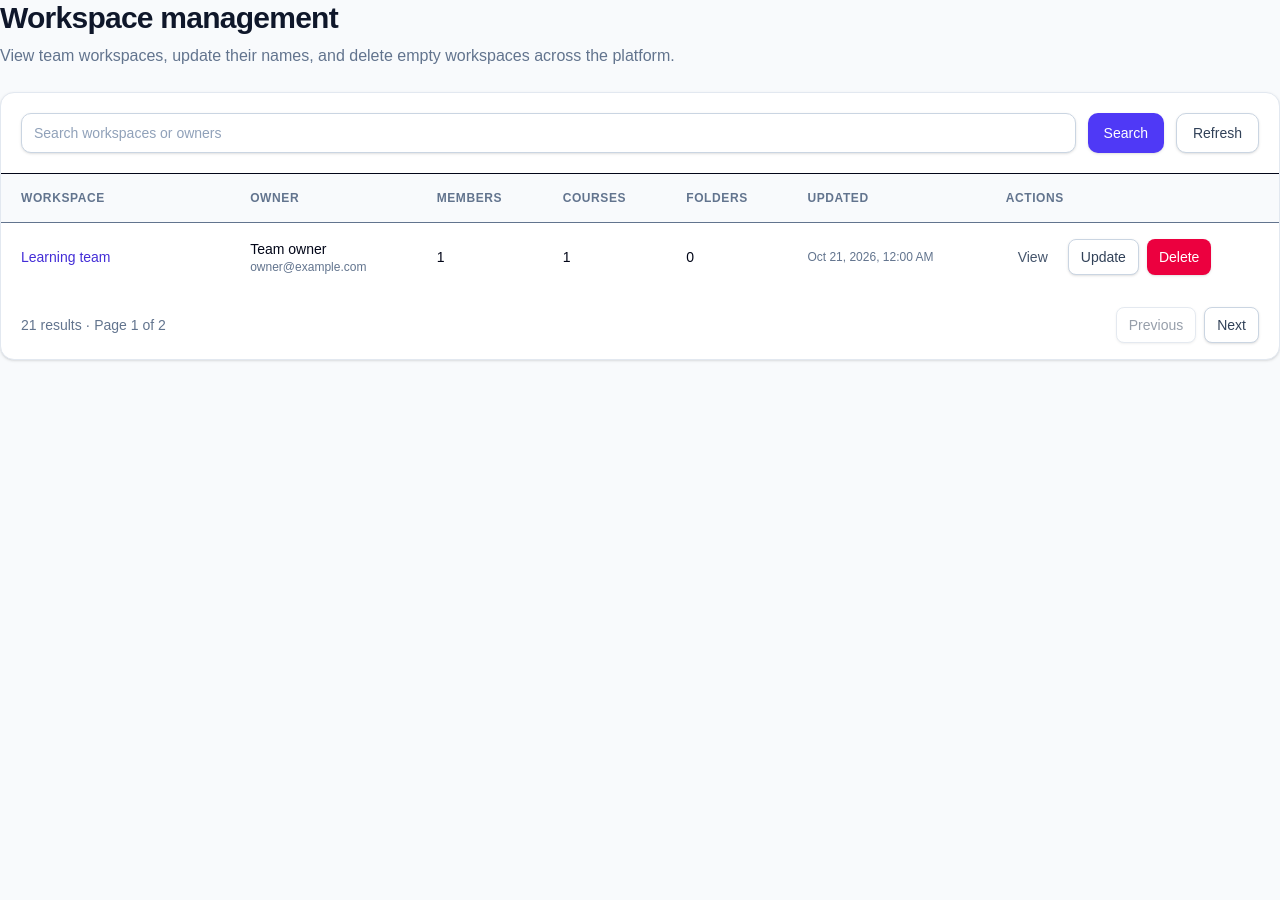
Test case: workspace administration UI › blocks deletion in the UI when the workspace has courses
The image size is (1280, 900).
Click the button "Delete" at [1179, 257], box 1147,239 -> 1211,275
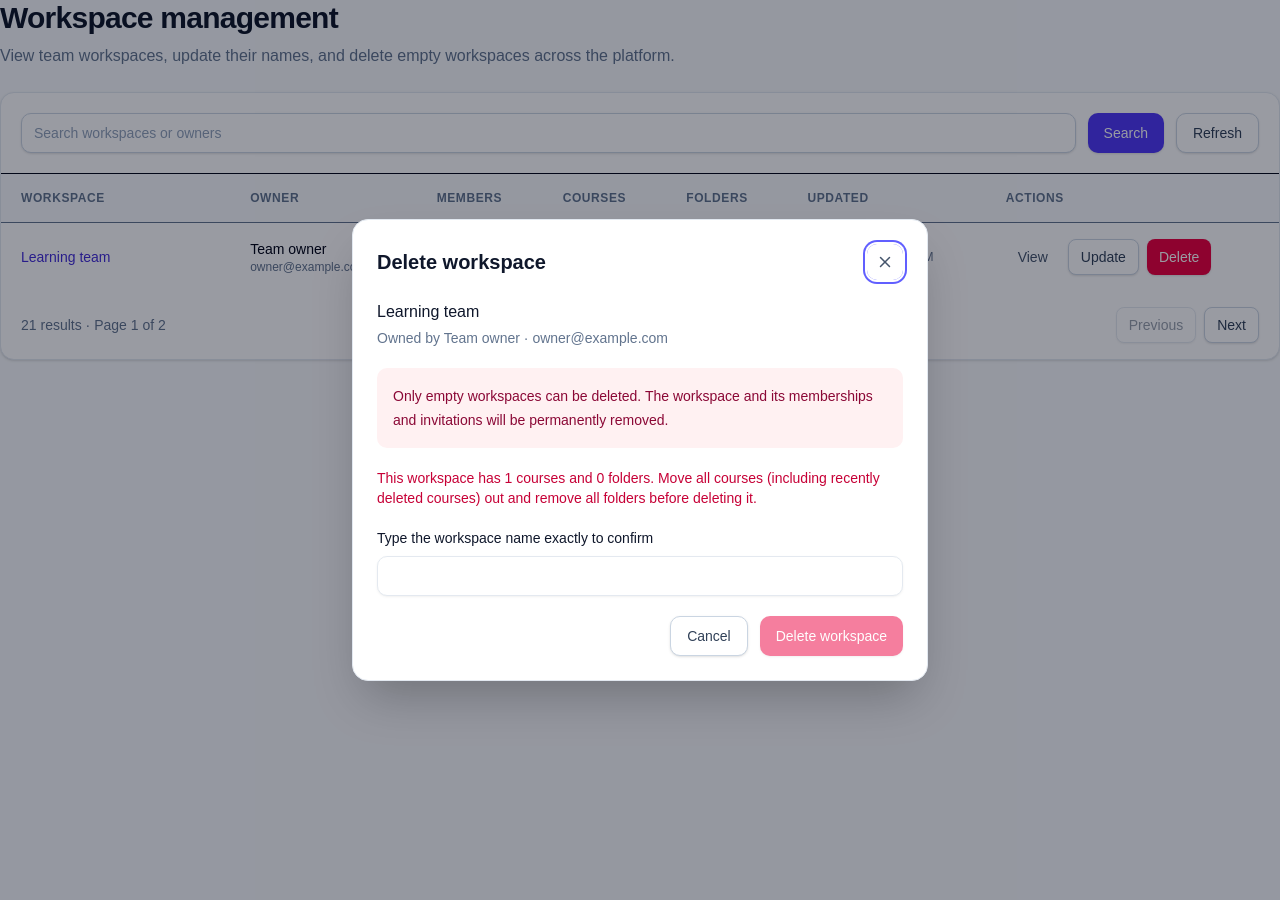
Result: the button "Delete workspace" is disabled at 760,616 -> 903,656
Result: the dialog shows "including recently deleted courses" at 377,470 -> 880,506
